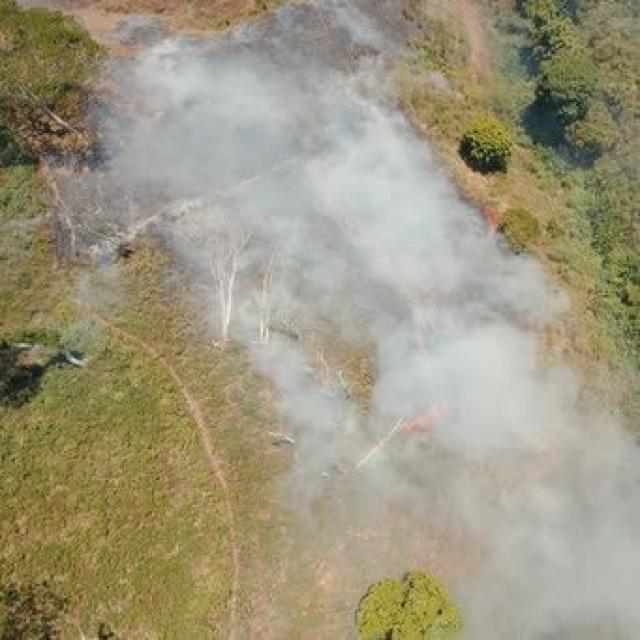Smoke: (160, 74, 632, 625)
